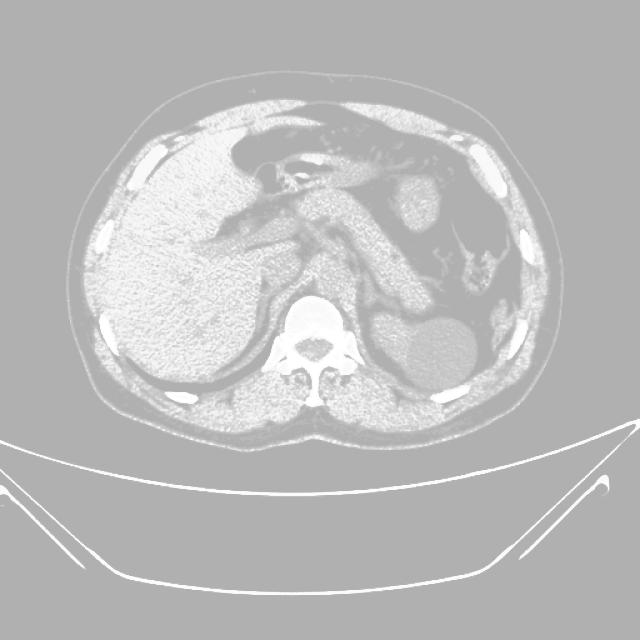cysts: (64, 78, 563, 454)
